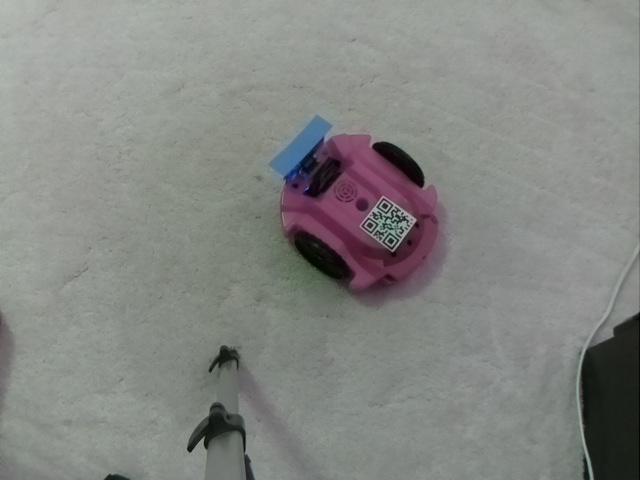chassis: (266, 109, 447, 297)
qr: (355, 193, 417, 257)
